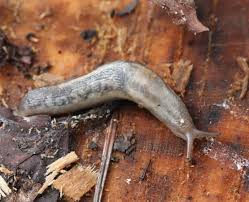slug: (23, 59, 211, 154)
